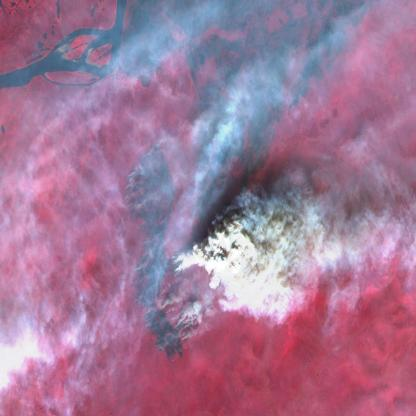fire: (120, 117, 206, 363)
